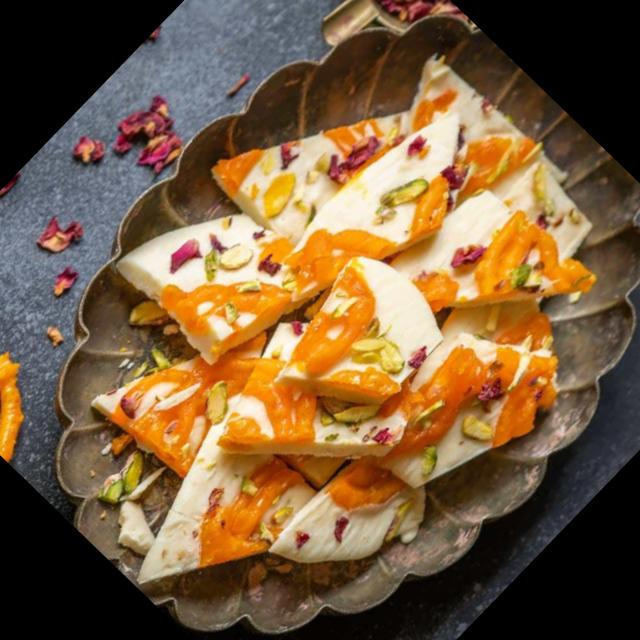jalebi: (0, 269, 63, 460)
